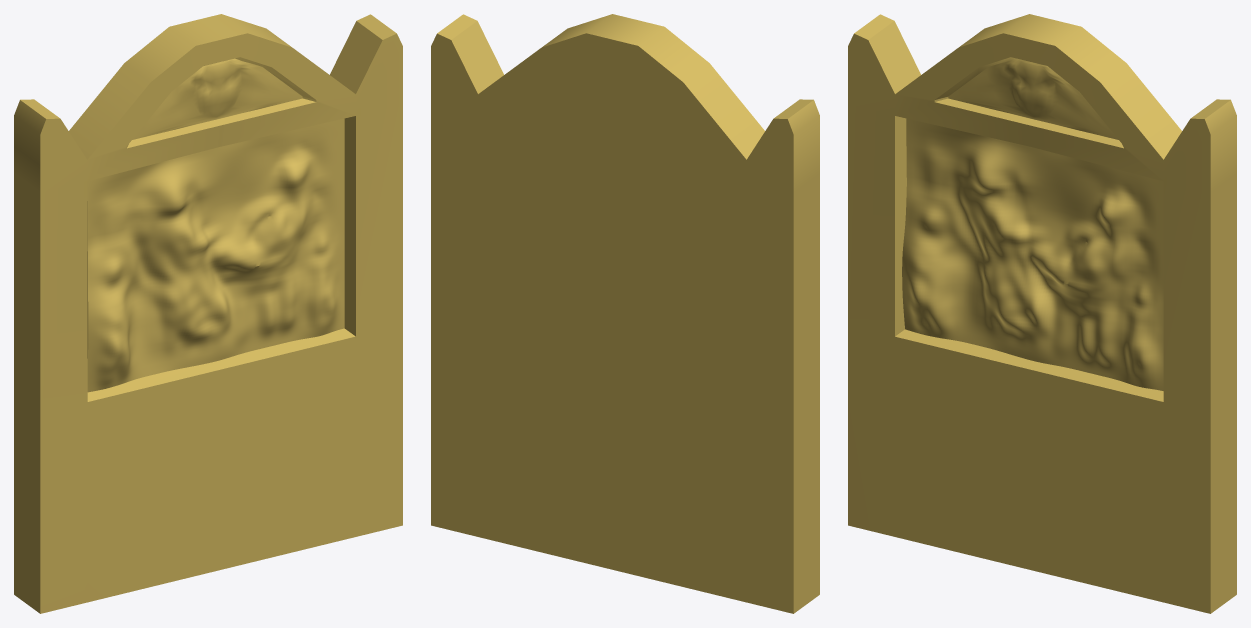
File: 3son.fbx
3 renders of one model, left to right at view 1: azimuth 30°, elevation 25°; view 2: azimuth 150°, elevation 25°; view 3: azimuth 330°, elevation 25°, orthographic.
Parts seen in each view (by area): view 1: 3fin; view 2: 3fin; view 3: 3fin.
Boxes of the visible parts, bbox=[...] form: 3fin: bbox=[14, 14, 402, 613]; 3fin: bbox=[431, 14, 819, 613]; 3fin: bbox=[848, 14, 1236, 613].
Size of the model in its own units: 331 by 48.33 by 463.
